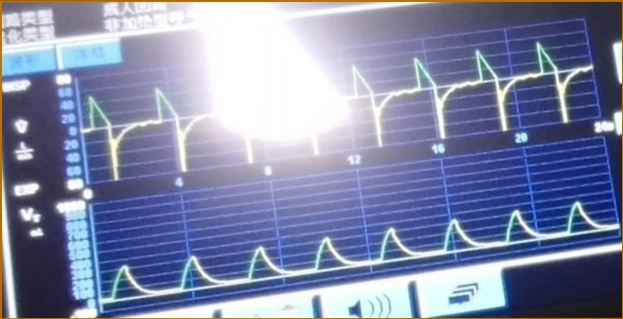Normal Flow: (82, 41, 592, 176)
Normal Volume: (104, 199, 616, 303)
